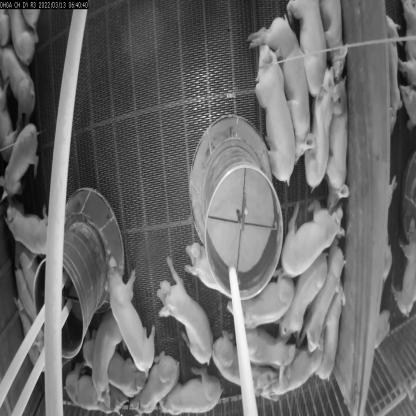Pig: (255, 16, 312, 160), (105, 247, 157, 373), (251, 48, 296, 192), (154, 262, 210, 367), (301, 233, 347, 356), (276, 201, 349, 274), (300, 69, 342, 191), (214, 330, 275, 404), (279, 250, 326, 345), (222, 273, 294, 333), (283, 0, 328, 94), (323, 86, 359, 200), (316, 284, 352, 390), (81, 338, 144, 398), (0, 122, 48, 200), (129, 346, 183, 415), (6, 198, 62, 264), (158, 365, 223, 416), (236, 321, 298, 371), (261, 352, 324, 401), (184, 231, 224, 307), (89, 304, 121, 398), (65, 369, 128, 415), (0, 44, 35, 113)
